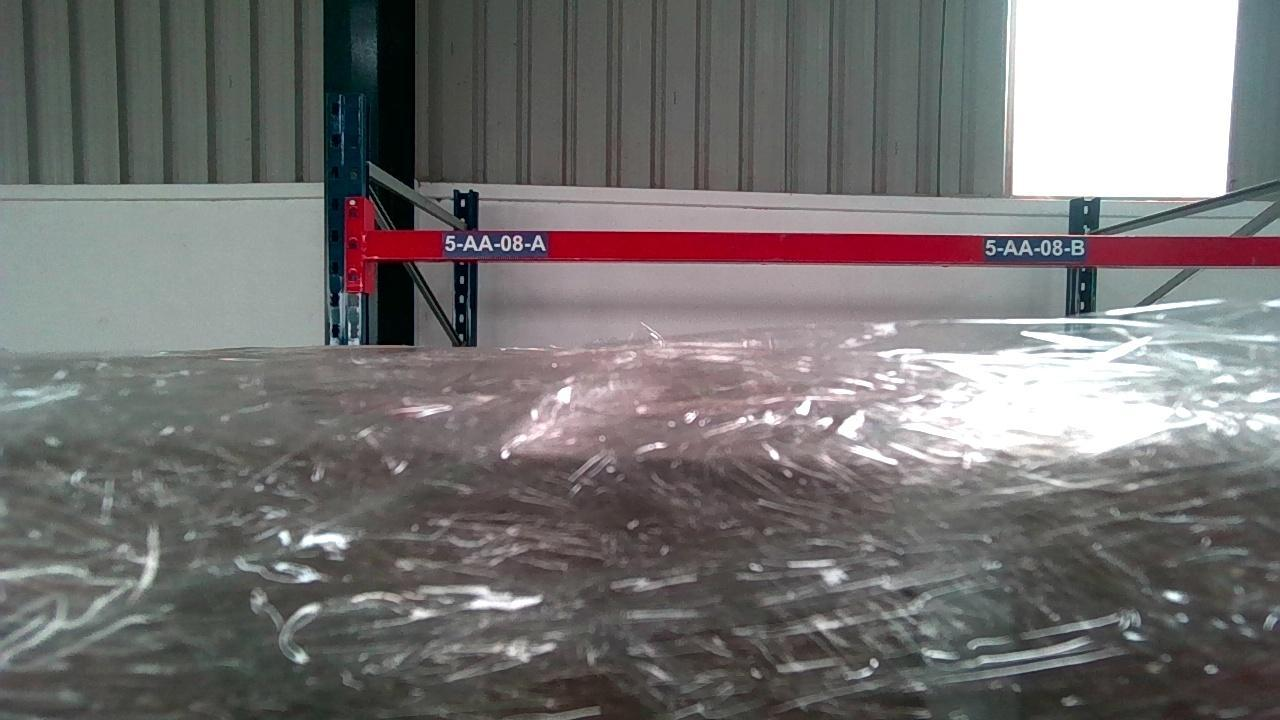h_rack: (371, 229, 1279, 263)
